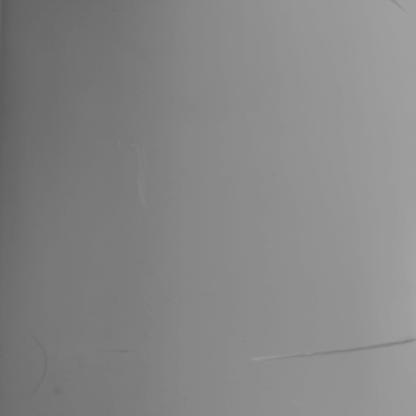sunshang: (257, 338, 413, 360), (29, 336, 56, 393), (390, 1, 408, 14)
